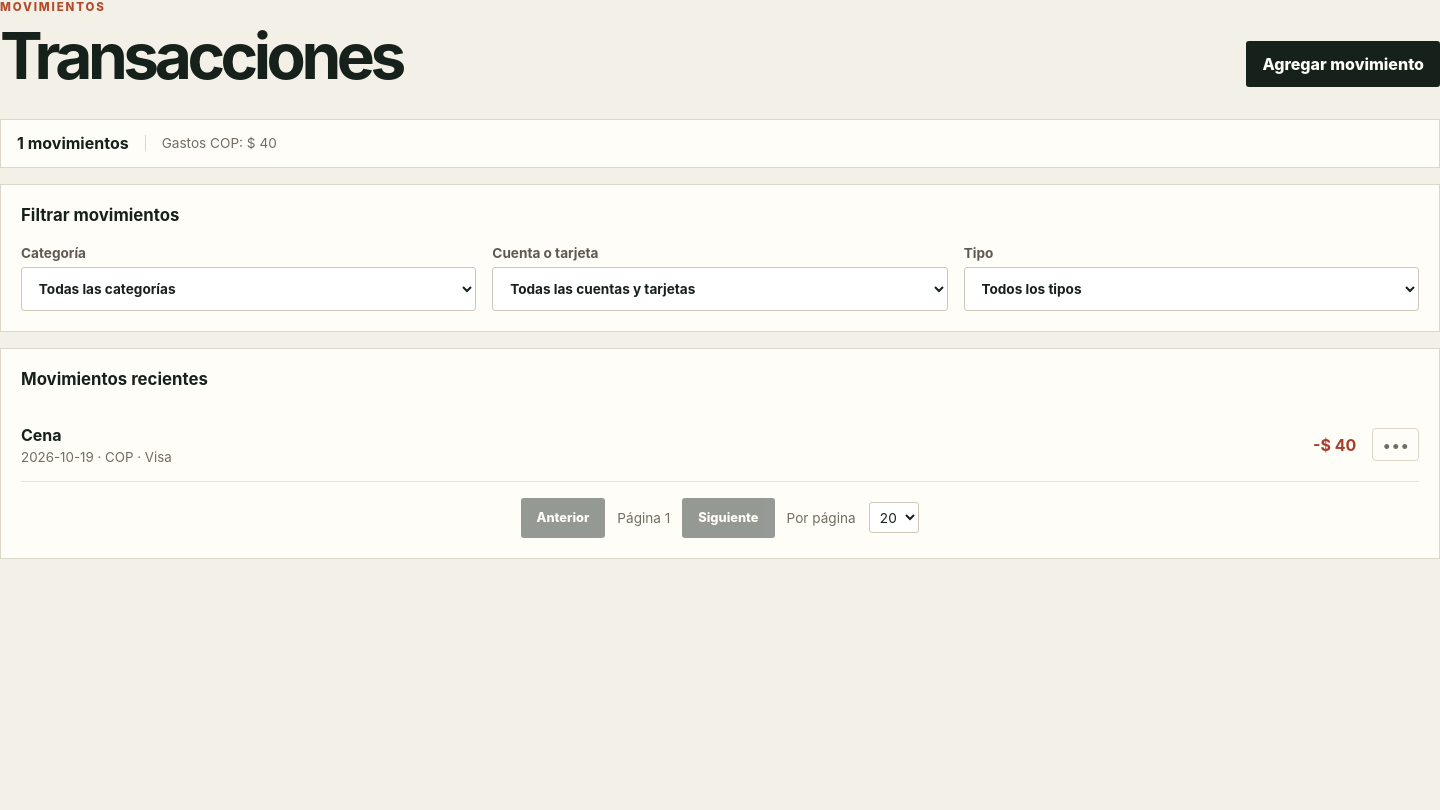
it: transaction source in details › shows the card of a credit transaction and no account row
The width and height of the screenshot is (1440, 810).
Expected: the text "Cena" is shown, [21,425,62,445]
Click the heading named "Acciones". click: x=1396, y=445
box: [1372,428,1419,461]
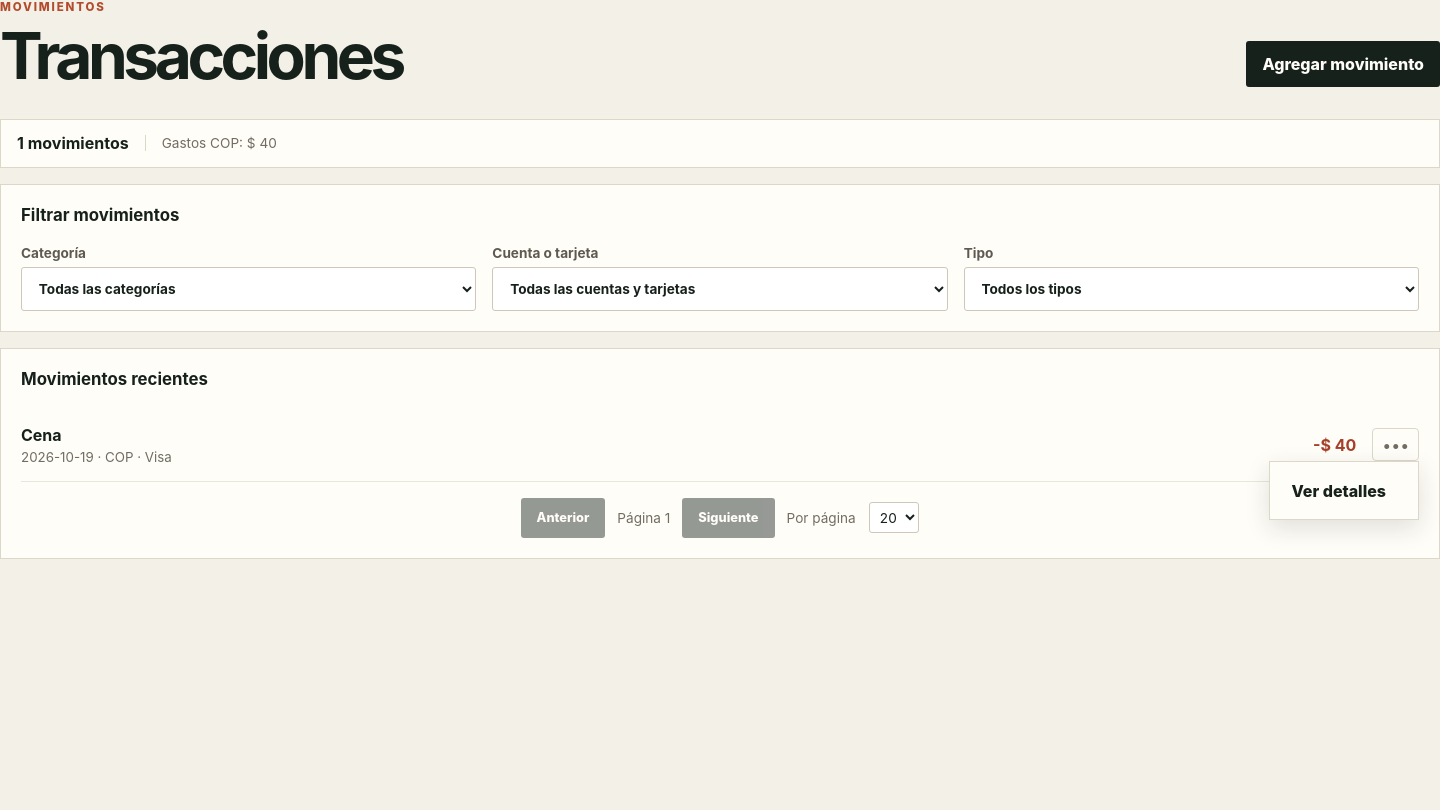
Click the button "Ver detalles". click: x=1344, y=491
box: [1276,468,1412,513]
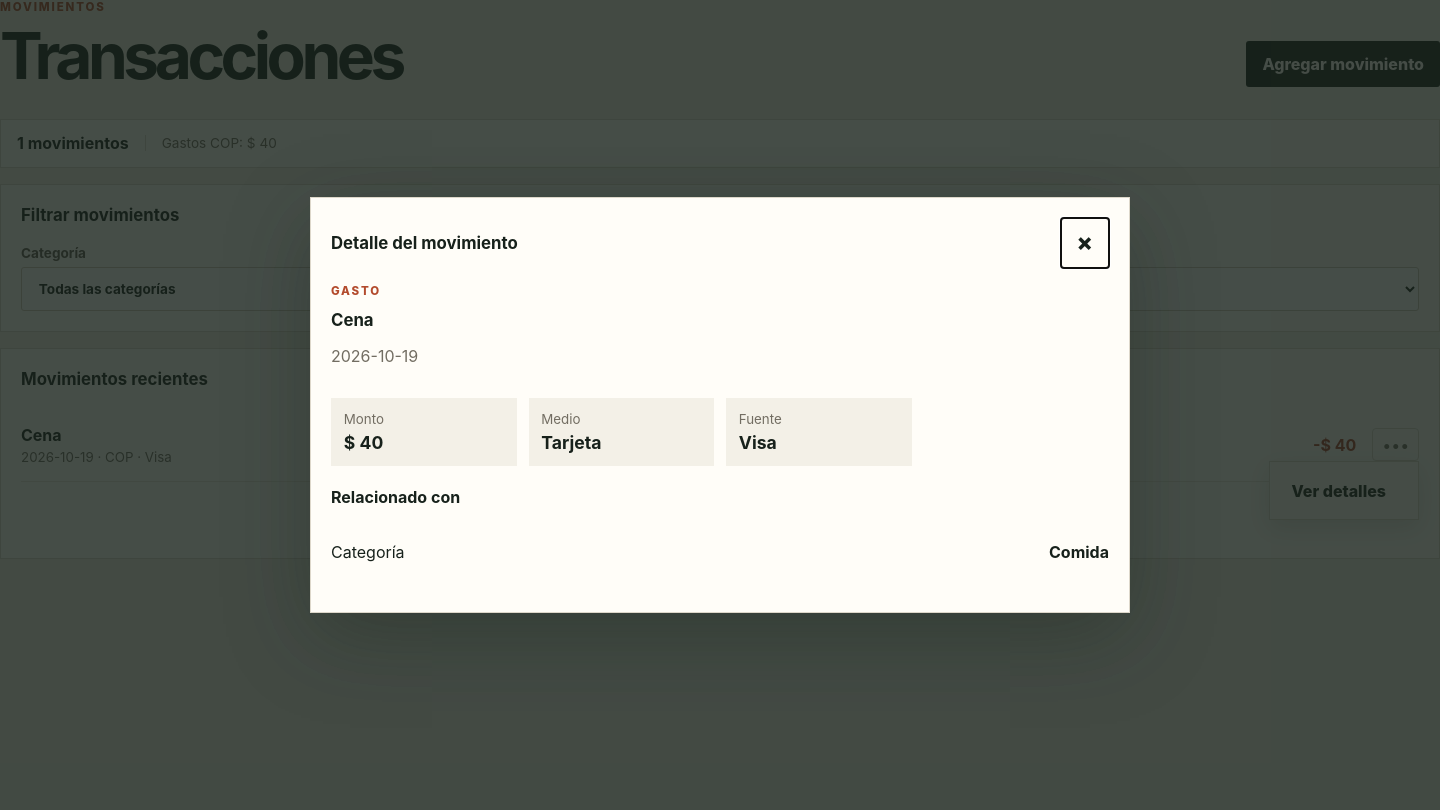
Expected: the dialog does not show "Cuenta"
Result: the dialog shows "Tarjeta" at [541,432,601,453]
Result: the dialog shows "Visa" at [739,432,777,453]
